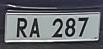2: (50, 17, 64, 39)
7: (76, 16, 91, 38)
8: (64, 17, 77, 38)
A: (29, 18, 42, 40)
R: (15, 17, 28, 40)
